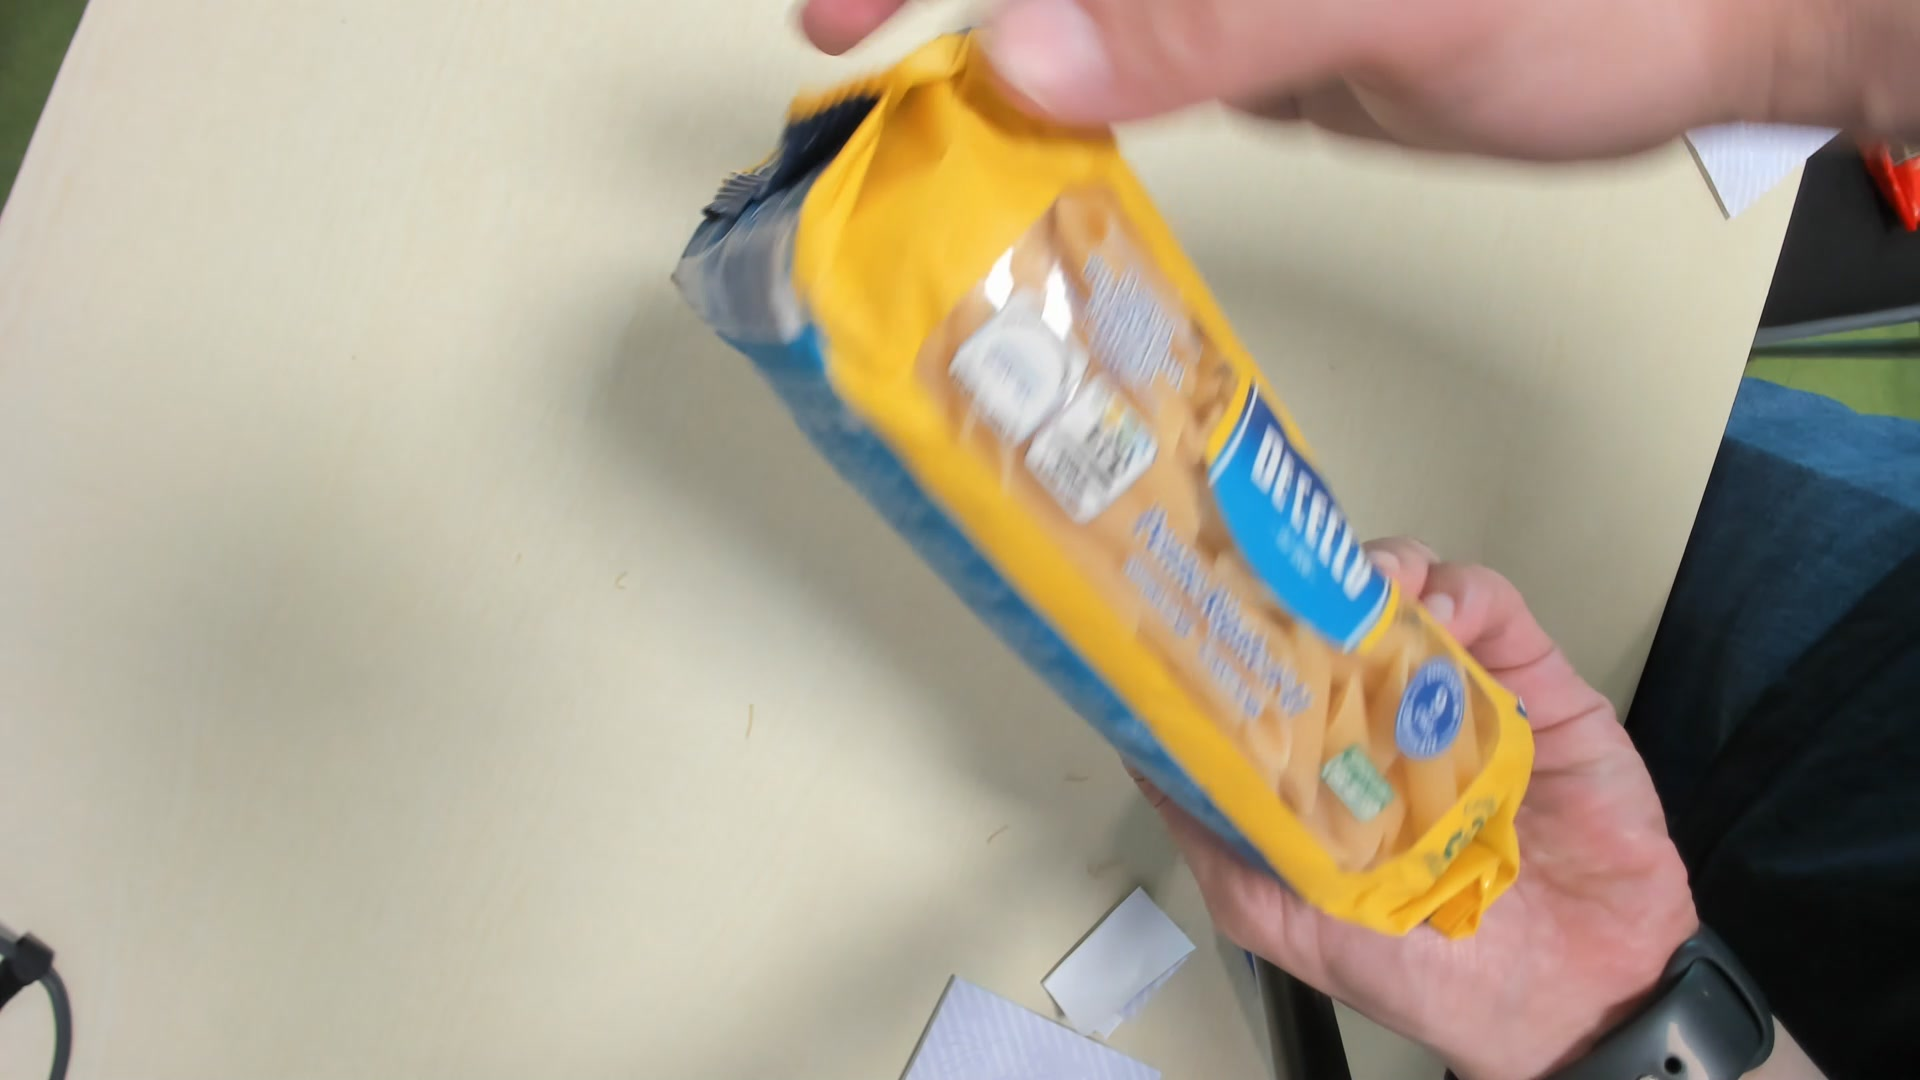Pasta_500-599g_NonHalal_NonHealthy: (669, 30, 1540, 945)
